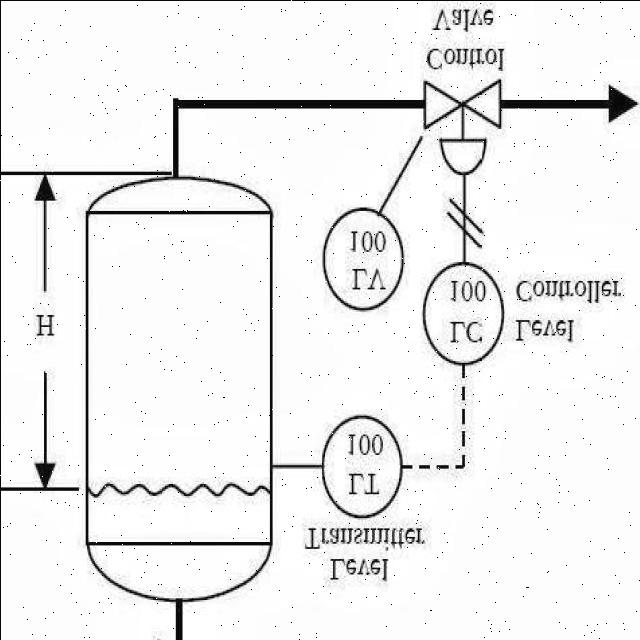Pneumatic-Diaphragm Gate Valve: (422, 71, 512, 181)
